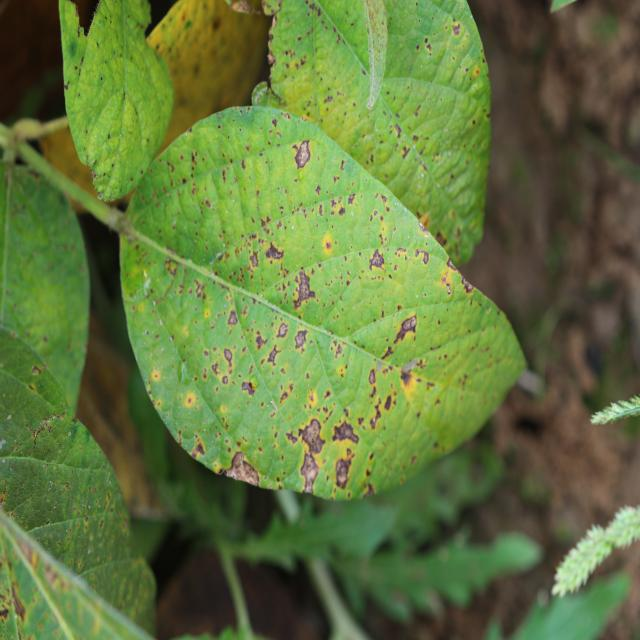Bacterial_Blight: (145, 255, 185, 309), (283, 267, 320, 317), (220, 451, 261, 485), (299, 451, 320, 492), (392, 314, 417, 346), (300, 418, 324, 450), (332, 419, 359, 445), (334, 456, 352, 489), (294, 139, 311, 169), (328, 196, 348, 217), (369, 250, 386, 272), (265, 242, 284, 261), (400, 368, 415, 388), (294, 329, 308, 350), (460, 275, 475, 294), (254, 331, 268, 351), (266, 345, 280, 365), (231, 451, 245, 471), (223, 347, 234, 371), (241, 380, 257, 395), (193, 437, 205, 457), (415, 249, 429, 265), (248, 251, 259, 269), (404, 315, 417, 330), (227, 310, 238, 326), (277, 322, 288, 338), (383, 394, 393, 411), (368, 368, 376, 385), (445, 284, 451, 296), (271, 118, 278, 128), (325, 241, 331, 249)
Soybean: (113, 100, 527, 504)
